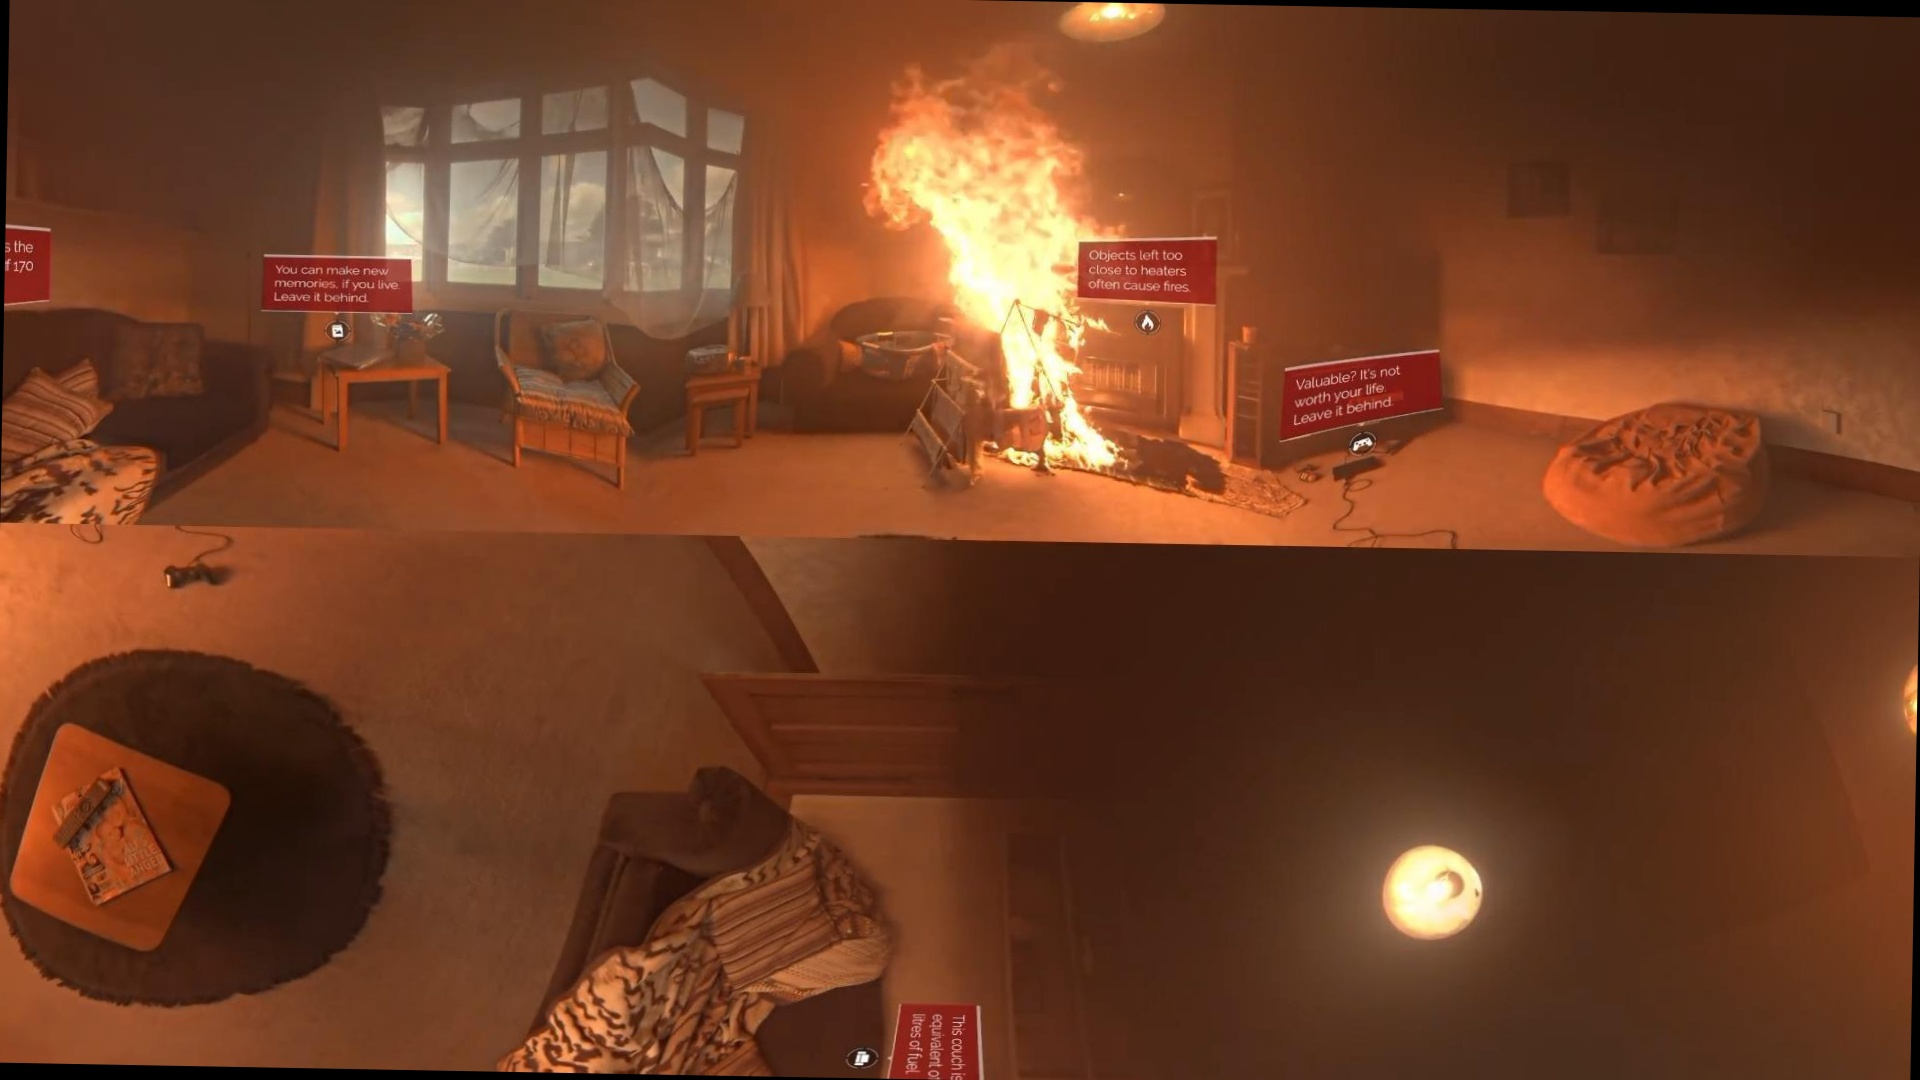fire: (869, 45, 1130, 458)
